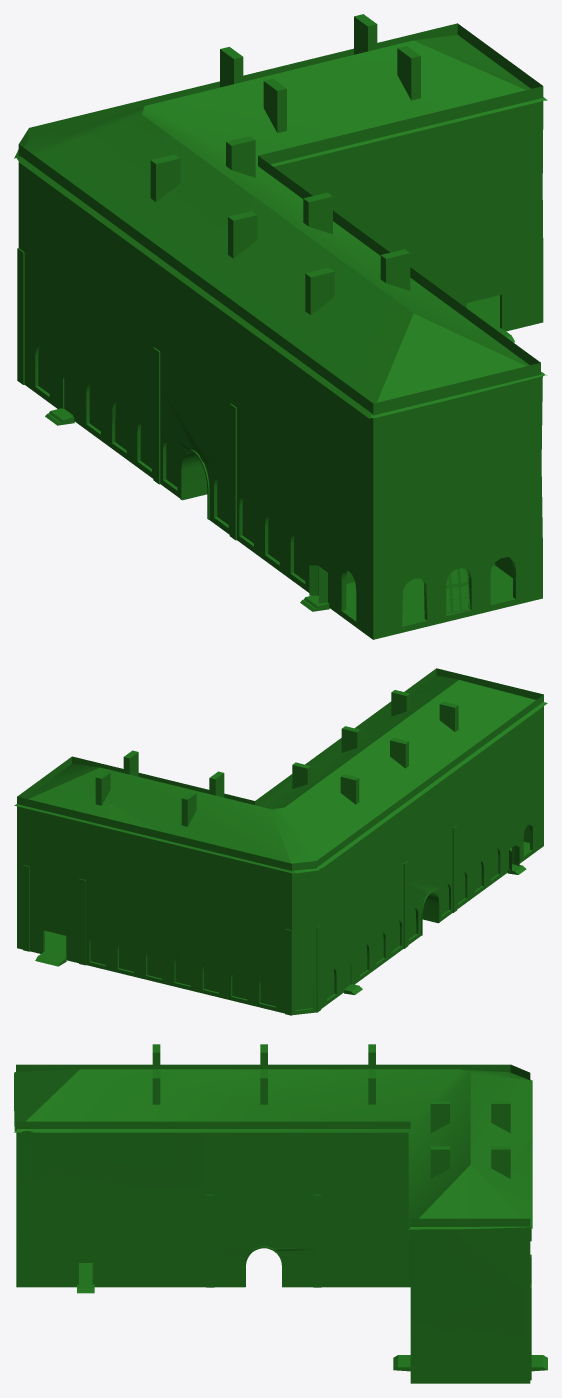
File: Building_City_03_Collision.FBX
3 views of the same model, one above another, from view 1: azimuth 30°, elevation 25°; view 2: azimuth 150°, elevation 25°; view 3: azimuth 270°, elevation 25° (orthographic). The views are drawn at different scales.
Visible parts, largest first — view 1: Building_City_03_Collision, Building_City_03_Roof_Collision, Building_City_03_Tube_Collision; view 2: Building_City_03_Collision, Building_City_03_Roof_Collision, Building_City_03_Tube_Collision; view 3: Building_City_03_Collision, Building_City_03_Roof_Collision, Building_City_03_Tube_Collision, Stairs_Metal_Collision.
Boxes of the visible parts, x1=… form: Building_City_03_Collision: x1=17, y1=101, x2=543, y2=639; Building_City_03_Roof_Collision: x1=14, y1=23, x2=547, y2=418; Building_City_03_Tube_Collision: x1=150, y1=14, x2=420, y2=315; Building_City_03_Collision: x1=17, y1=706, x2=543, y2=1015; Building_City_03_Roof_Collision: x1=14, y1=668, x2=547, y2=873; Building_City_03_Tube_Collision: x1=95, y1=690, x2=458, y2=826; Building_City_03_Collision: x1=16, y1=1131, x2=547, y2=1383; Building_City_03_Roof_Collision: x1=14, y1=1064, x2=532, y2=1229; Building_City_03_Tube_Collision: x1=152, y1=1044, x2=510, y2=1178; Stairs_Metal_Collision: x1=24, y1=1129, x2=30, y2=1271.
Bounding box in the file's own units: 3722 × 5215 × 2141.
